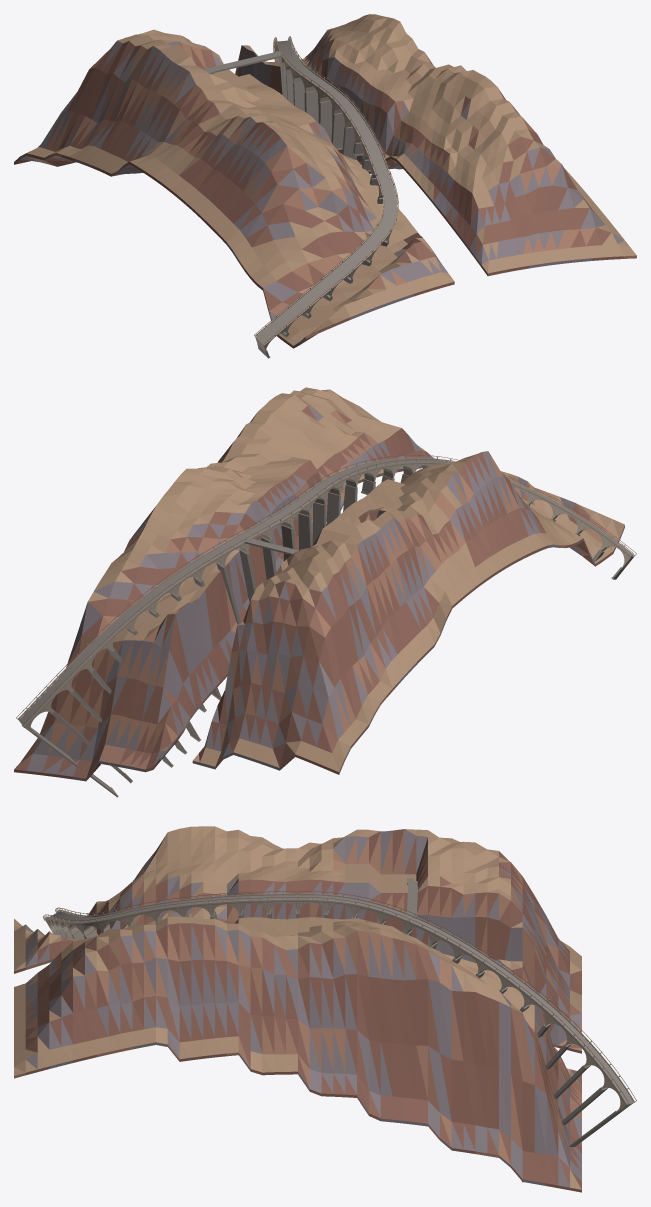
Rendered from gate-site-v1.glb.
3 renders of one model, top to bottom at view 1: azimuth 30°, elevation 25°; view 2: azimuth 150°, elevation 25°; view 3: azimuth 270°, elevation 25°, orthographic. The views are drawn at different scales.
Parts seen in each view (by area): view 1: canyon-shoulder--1, canyon-shoulder-1, gate-site-GateSite_stone-walk, gate-site-GateSite_stone-solid, gate-site-GateSite_trim-solid, gate-site-GateSite_rock-solid; view 2: canyon-shoulder--1, canyon-shoulder-1, gate-site-GateSite_trim-solid, gate-site-GateSite_stone-solid, gate-site-GateSite_stone-walk, gate-site-GateSite_rock-solid; view 3: canyon-shoulder-1, canyon-shoulder--1, gate-site-GateSite_trim-solid, gate-site-GateSite_stone-walk, gate-site-GateSite_stone-solid, gate-site-GateSite_rock-solid.
Boxes of the visible parts, x1,y1,x2,y2 form: canyon-shoulder--1: (14,29,454,348); canyon-shoulder-1: (235,14,636,276); gate-site-GateSite_stone-walk: (204,40,397,345); gate-site-GateSite_stone-solid: (257,58,388,357); gate-site-GateSite_trim-solid: (254,36,398,358); gate-site-GateSite_rock-solid: (254,36,398,347); canyon-shoulder--1: (192,451,624,774); canyon-shoulder-1: (14,387,434,781); gate-site-GateSite_trim-solid: (16,455,636,797); gate-site-GateSite_stone-solid: (30,474,623,796); gate-site-GateSite_stone-walk: (18,459,633,727); gate-site-GateSite_rock-solid: (16,455,636,728); canyon-shoulder-1: (14,916,581,1192); canyon-shoulder--1: (14,826,581,1053); gate-site-GateSite_trim-solid: (43,891,636,1182); gate-site-GateSite_stone-walk: (45,878,633,1105); gate-site-GateSite_stone-solid: (53,909,623,1147); gate-site-GateSite_rock-solid: (43,891,636,1104).
Bounding box in the file's own units: 137 × 99.31 × 211.
